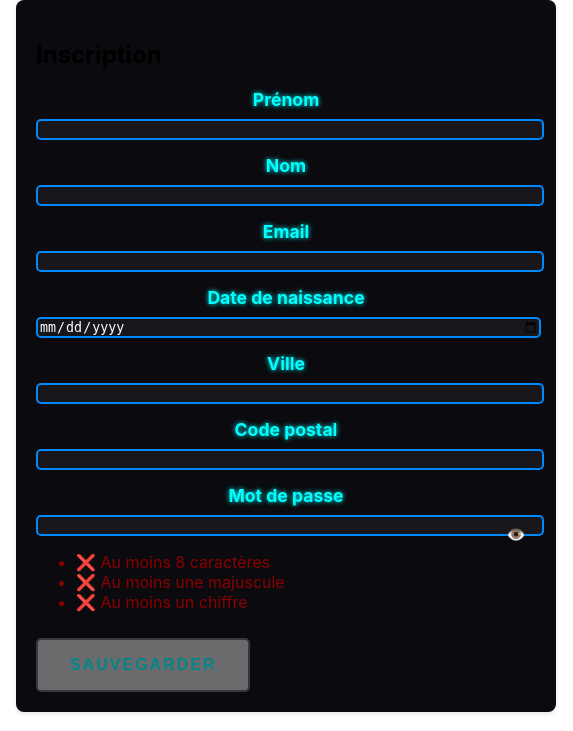
Test: RegistrationForm › shows error if email already exists (409)
Type "Jane" into the field with test id "input-firstName" at (290, 129), box 36,119 -> 544,140
Type "Doe" into the field with test id "input-lastName" at (290, 195), box 36,185 -> 544,206
Type "exists@email.com" into the field with test id "input-email" at (290, 261), box 36,251 -> 544,272
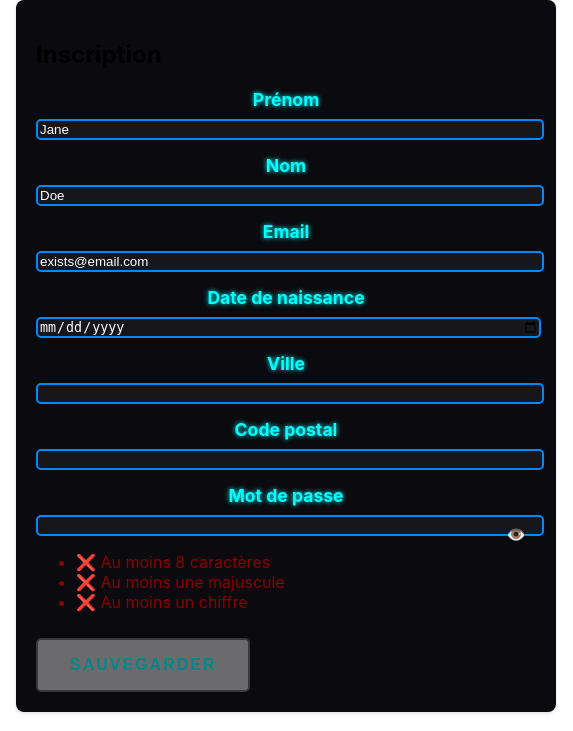
Type "1990-01-01" into the date field with test id "input-birthDate" at (288, 327), box 36,317 -> 541,338
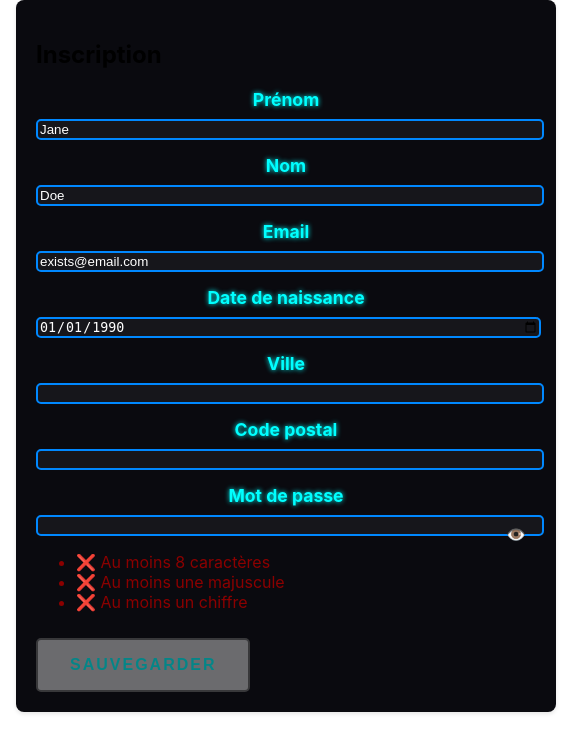
Type "Lyon" into the field with test id "input-city" at (290, 394), box 36,383 -> 544,404
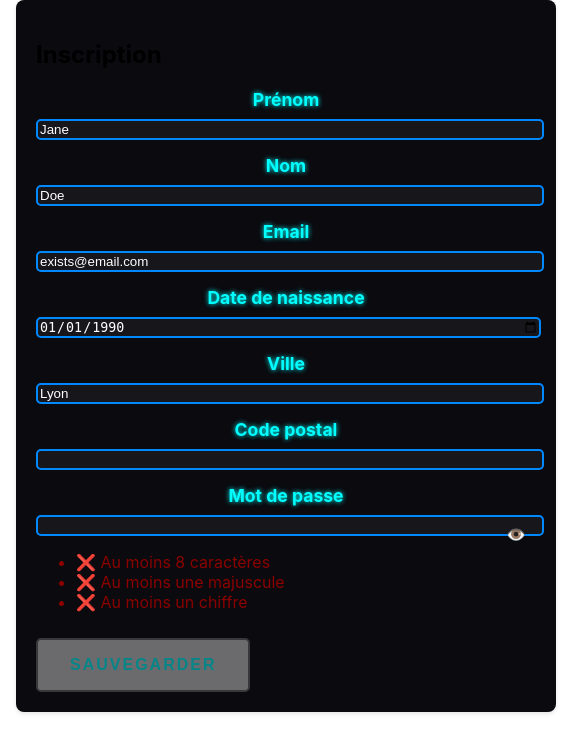
Type "69000" into the field with test id "input-postalCode" at (290, 460), box 36,449 -> 544,470
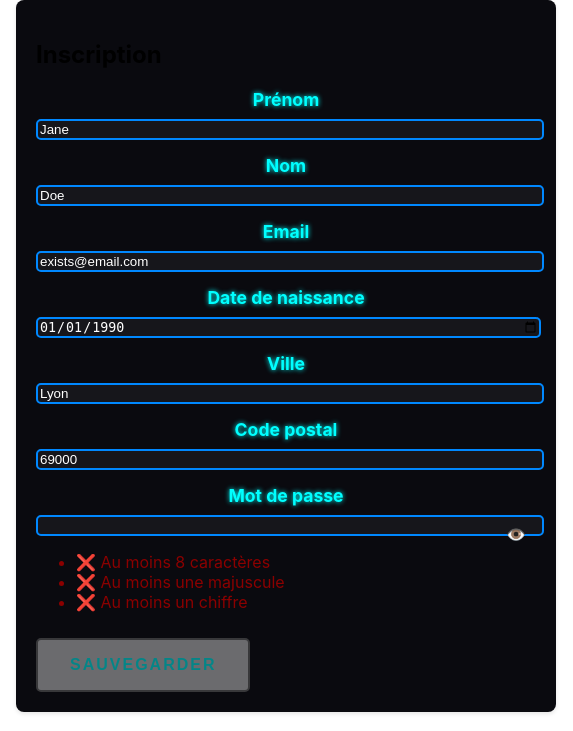
Type "Password1" into the password field with test id "input-password" at (290, 526), box 36,515 -> 544,536
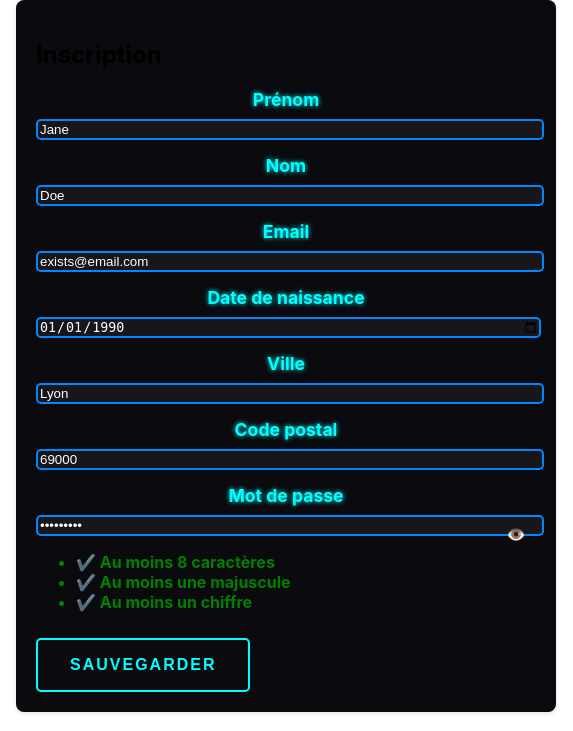
Click the button with test id "submit-registration" at (143, 665), box 36,638 -> 250,692
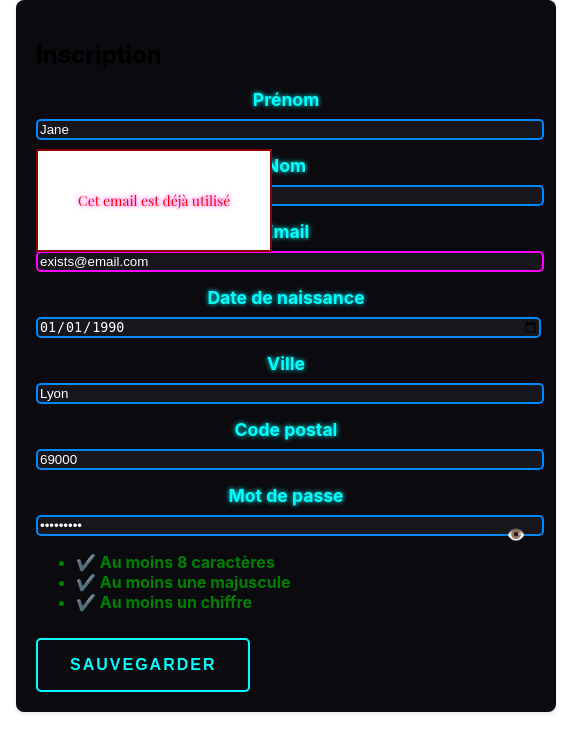
Result: the text with test id "error-email" reads "Cet email est déjà utilisé" at 78,191 -> 230,210
